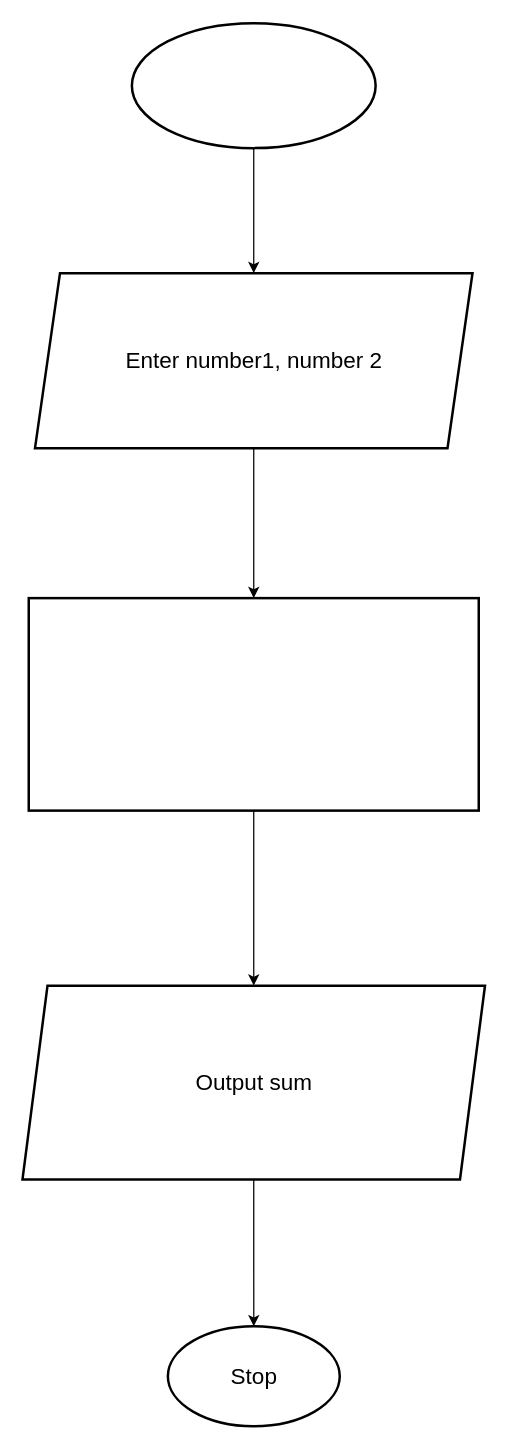
This 508x1449 diagram has some shape labels left out. The centre of each missing label's shape, as x and y in pixels:
Start: point (253, 85)
sum = number1 + number 2: point (253, 703)
